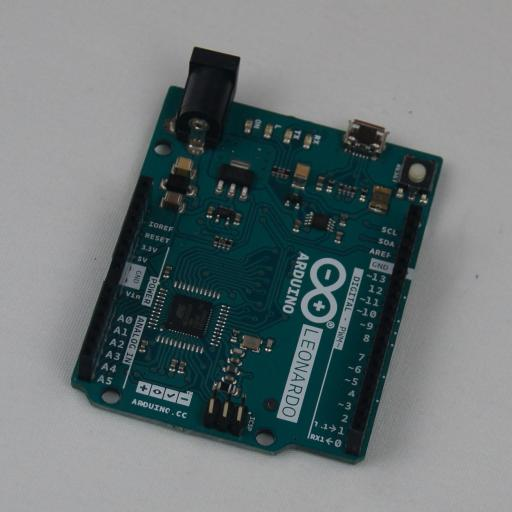Arduino Leonardo: (71, 46, 442, 464)
